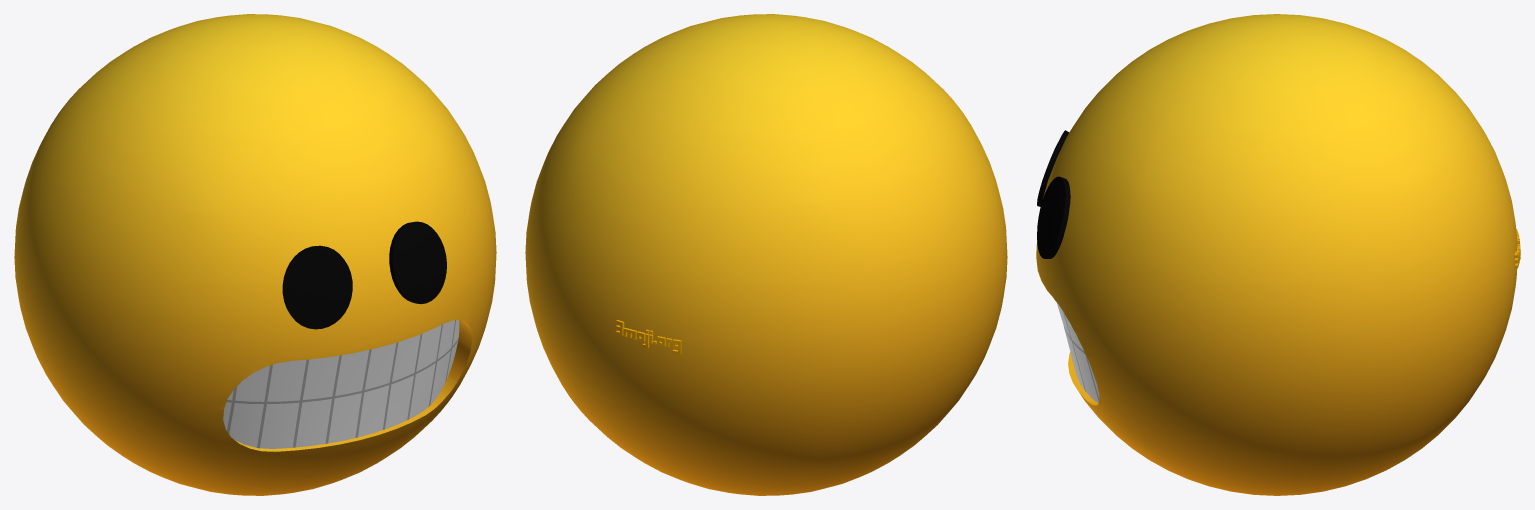
The model's file is grimacing_face.glb.
3 views of the same model, side by side, from view 1: azimuth 30°, elevation 25°; view 2: azimuth 150°, elevation 25°; view 3: azimuth 270°, elevation 25° (orthographic).
Parts seen in each view (by area): view 1: Grimacing Face; view 2: Grimacing Face; view 3: Grimacing Face.
Part boxes in pixels (x1=…): Grimacing Face: x1=14, y1=14, x2=496, y2=495; Grimacing Face: x1=525, y1=14, x2=1007, y2=495; Grimacing Face: x1=1036, y1=14, x2=1520, y2=495.
Size of the model in its own units: 1.69 by 1.69 by 1.7.
1 material, 1 textured.
